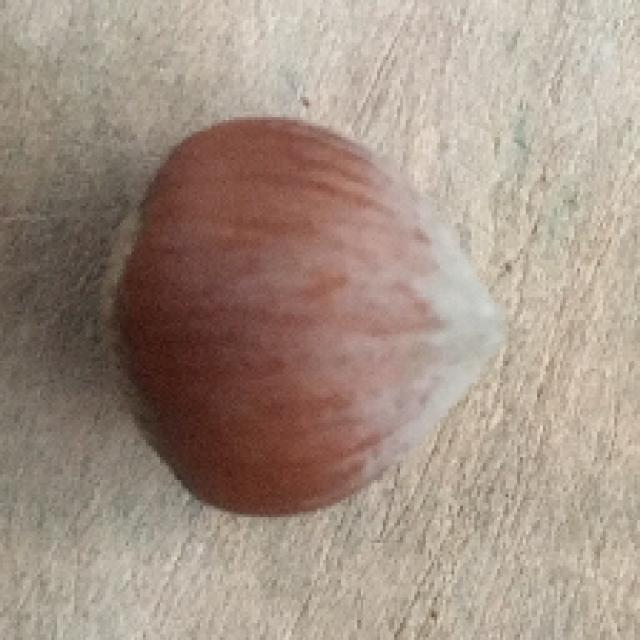qualityHazelnut: (84, 102, 502, 526)
